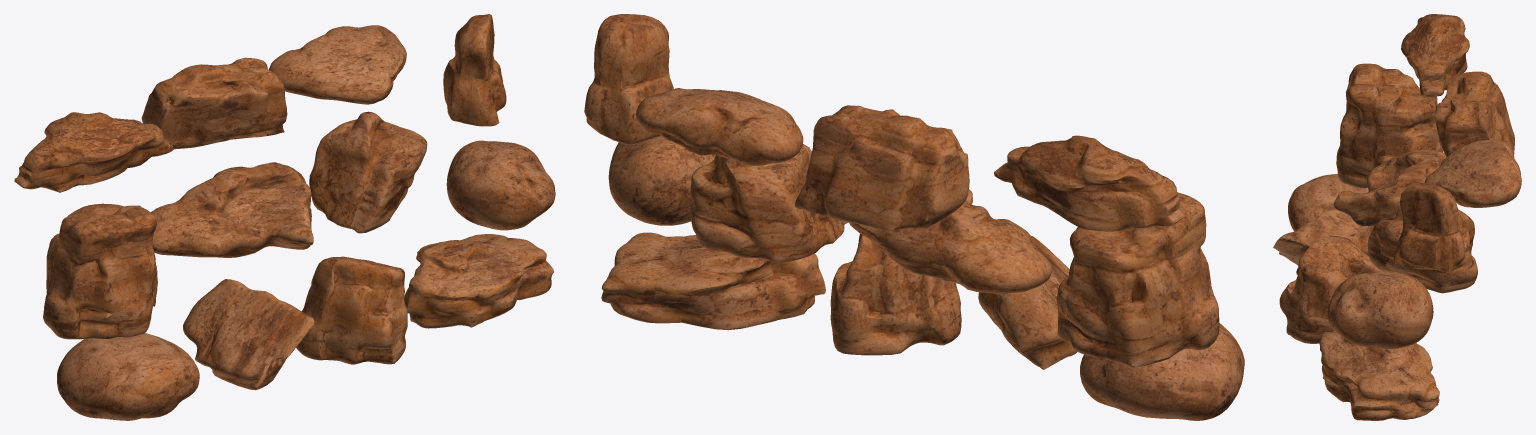
Rendered from Desert_rock_chunks_12_pieces_runtime_2k.glb.
3 views of the same model, side by side, from view 1: azimuth 30°, elevation 25°; view 2: azimuth 150°, elevation 25°; view 3: azimuth 270°, elevation 25° (orthographic). The views are drawn at different scales.
Visible parts, largest first — view 1: Mesh0; view 2: Mesh0; view 3: Mesh0.
Boxes of the visible parts, x1,y1,x2,y2 form: Mesh0: (14,14,555,420); Mesh0: (584,14,1244,420); Mesh0: (1273,14,1521,420).
Size of the model in its own units: 1.9 by 0.9449 by 0.9174.
Materials: 1 (1 with a texture image).
